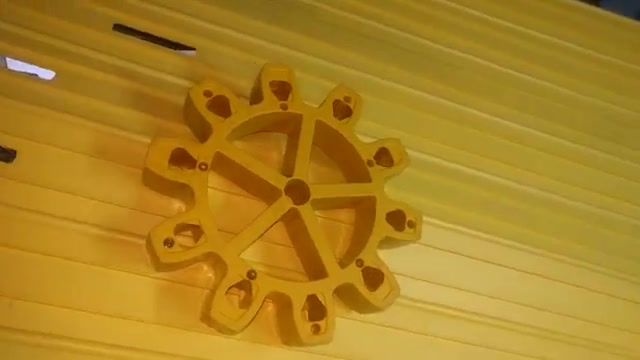gear: (128, 44, 439, 351)
